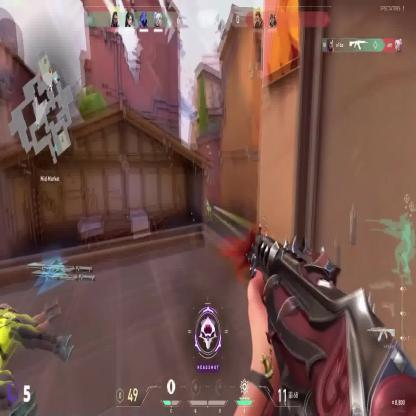enemy: (206, 201, 212, 222)
enemy_head: (206, 201, 210, 206)
